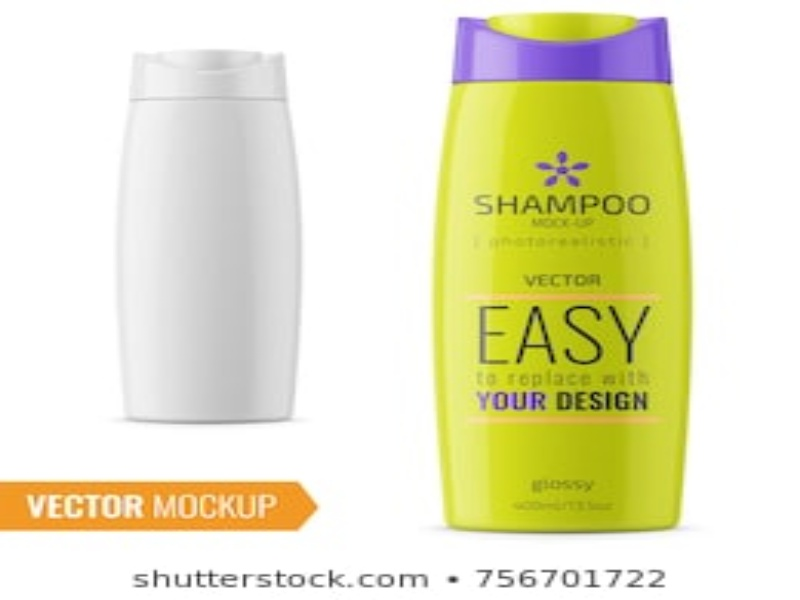shampoo-bottle: (430, 13, 691, 538), (103, 45, 320, 424)
